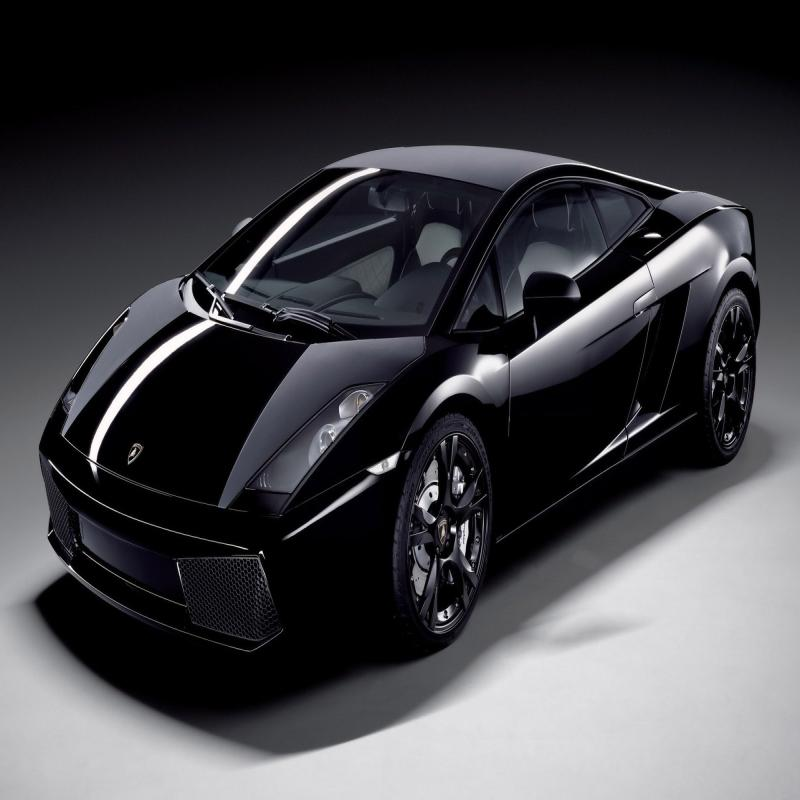car: (21, 100, 772, 718)
